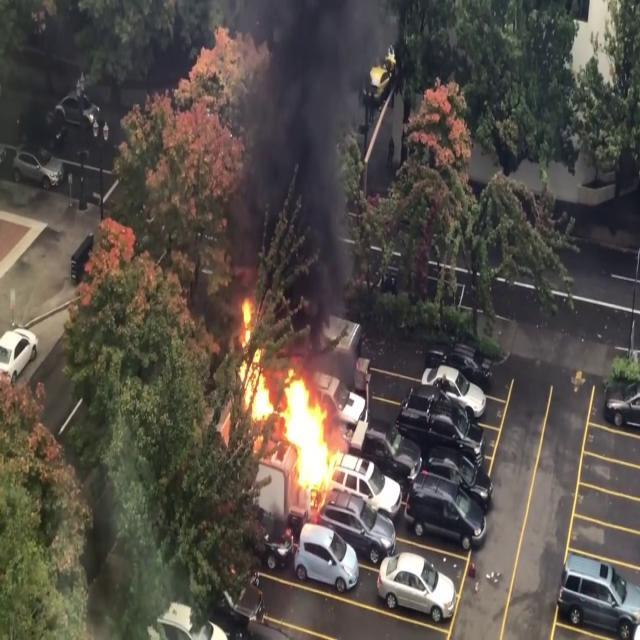Fire: (228, 298, 348, 501)
Smoke: (229, 1, 373, 316)
